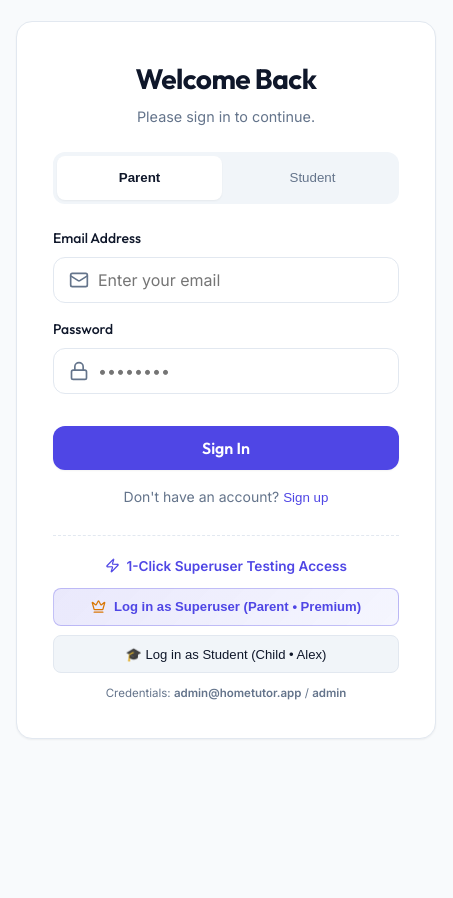
Test case: Login page – sign up mode › shows invite code field when Student role is selected in sign-up
Step 1. Click the button "Sign up" → coordinates (306, 497), box x1=283 y1=490 x2=328 y2=505
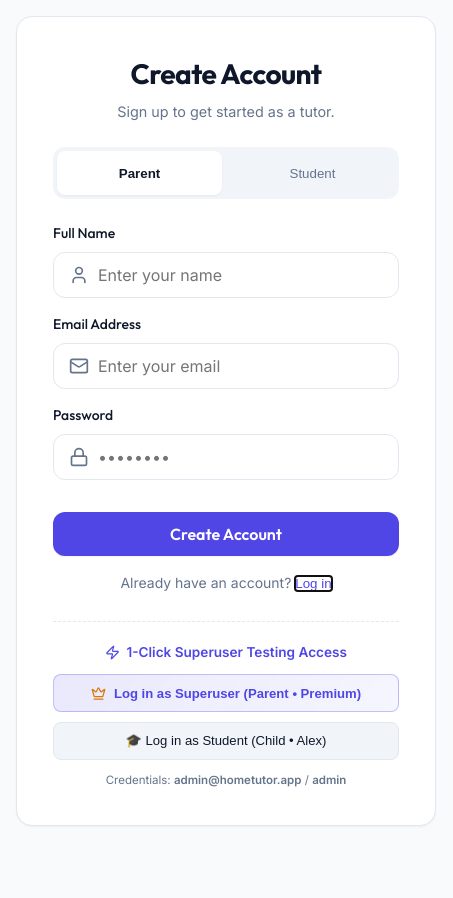
Step 2. Click the button "Student" → coordinates (312, 173), box x1=230 y1=151 x2=395 y2=195
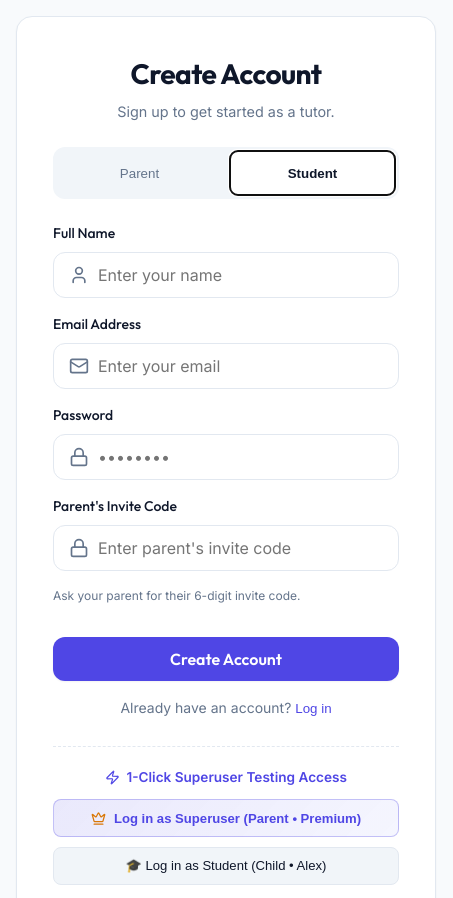
Expected: the field with placeholder "Enter parent's invite code" is shown, x1=53 y1=525 x2=399 y2=571
